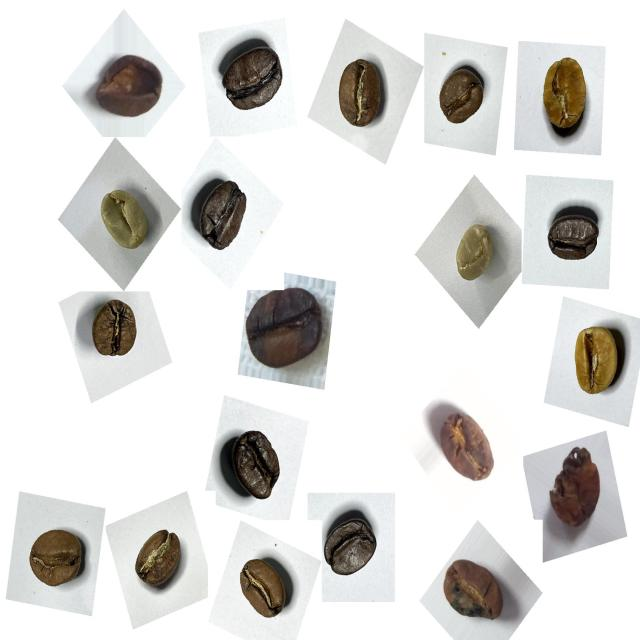bad: (235, 278, 334, 388), (88, 41, 173, 134), (538, 439, 612, 544), (430, 400, 503, 491), (438, 548, 513, 632)
dark: (211, 30, 292, 126), (215, 417, 292, 511), (185, 170, 259, 264), (318, 506, 390, 593), (539, 196, 608, 275)
green: (89, 177, 159, 265), (446, 212, 506, 294)
light: (530, 49, 602, 148), (559, 316, 632, 410)
medium: (326, 51, 396, 140), (19, 517, 92, 602), (231, 549, 299, 631), (82, 292, 150, 372), (125, 519, 191, 601), (429, 61, 494, 140)
